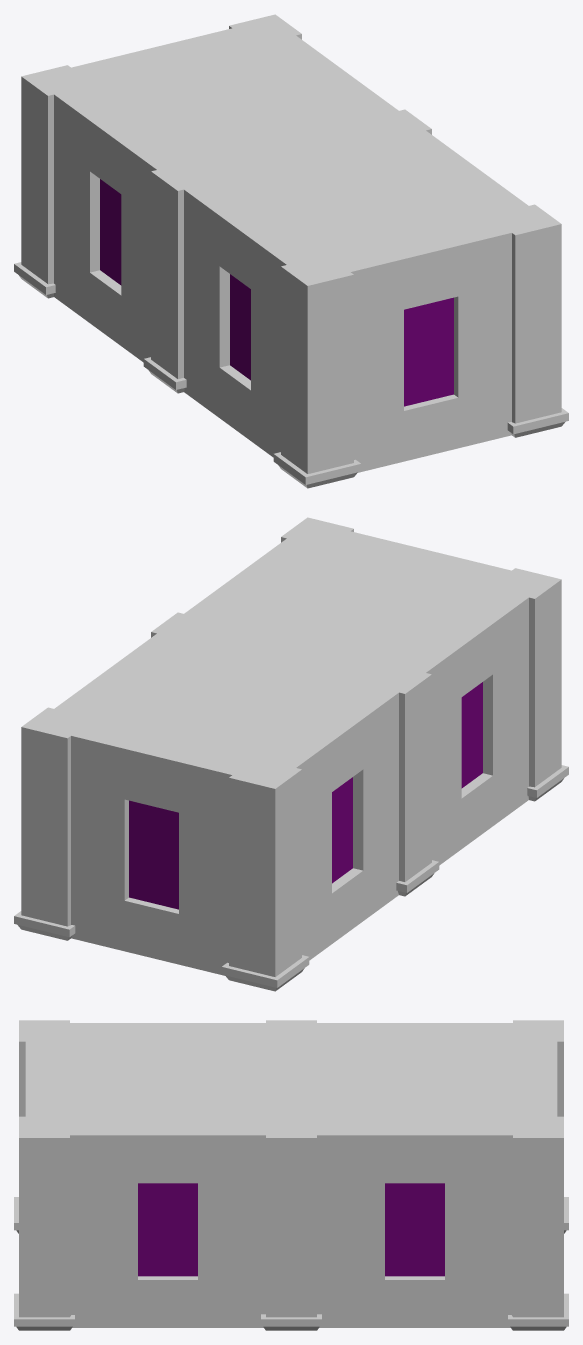
The model's file is bigrect_mid_1.fbx.
3 views of the same model, one above another, from view 1: azimuth 30°, elevation 25°; view 2: azimuth 150°, elevation 25°; view 3: azimuth 270°, elevation 25° (orthographic). The views are drawn at different scales.
Parts seen in each view (by area): view 1: bigrect_mid_1.001; view 2: bigrect_mid_1.001; view 3: bigrect_mid_1.001.
Boxes of the visible parts, bbox=[...] form: bigrect_mid_1.001: bbox=[14, 14, 568, 488]; bigrect_mid_1.001: bbox=[14, 517, 568, 991]; bigrect_mid_1.001: bbox=[14, 1020, 568, 1330].
Bounding box in the file's own units: 544 × 400 × 1044.
